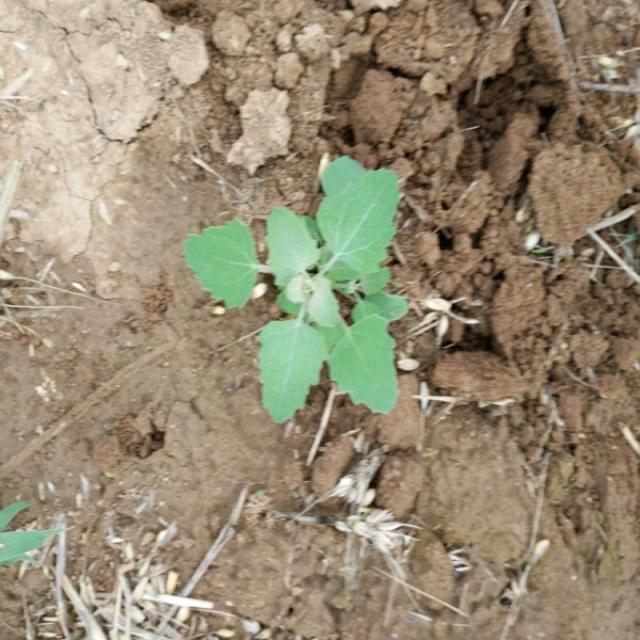goosefoots: (178, 153, 411, 424)
